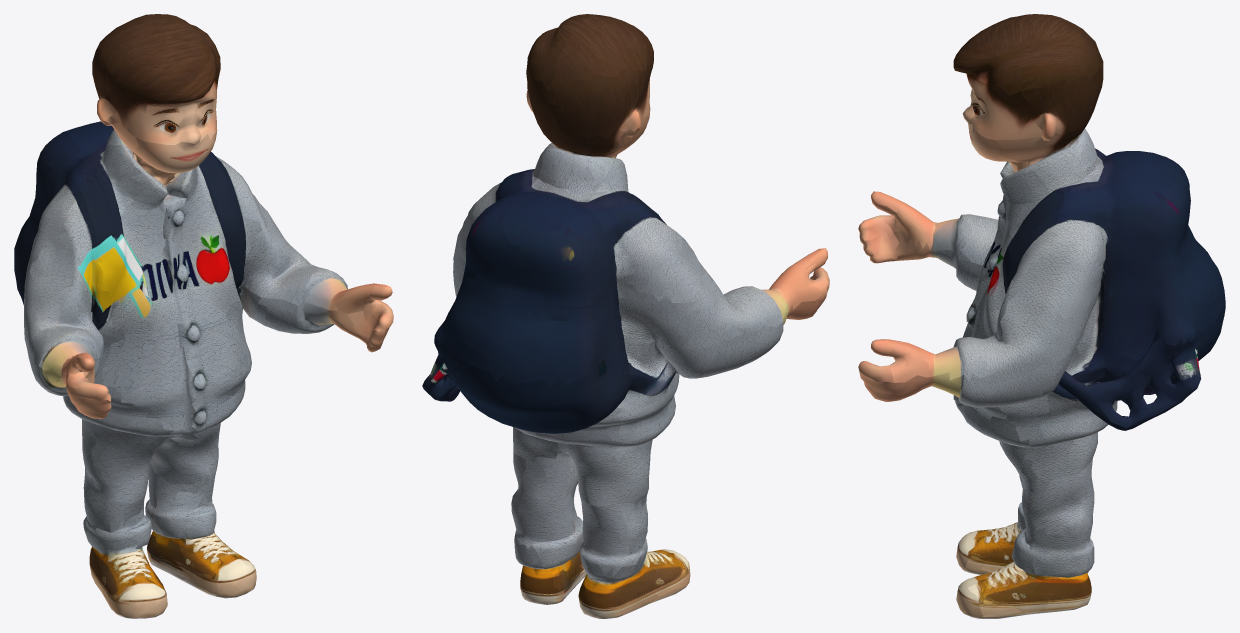
The model's file is hub_student.glb.
3 renders of one model, left to right at view 1: azimuth 30°, elevation 25°; view 2: azimuth 150°, elevation 25°; view 3: azimuth 270°, elevation 25°, orthographic.
Size of the model in its own units: 1.14 by 1.91 by 1.12.
1 material, 1 textured.
